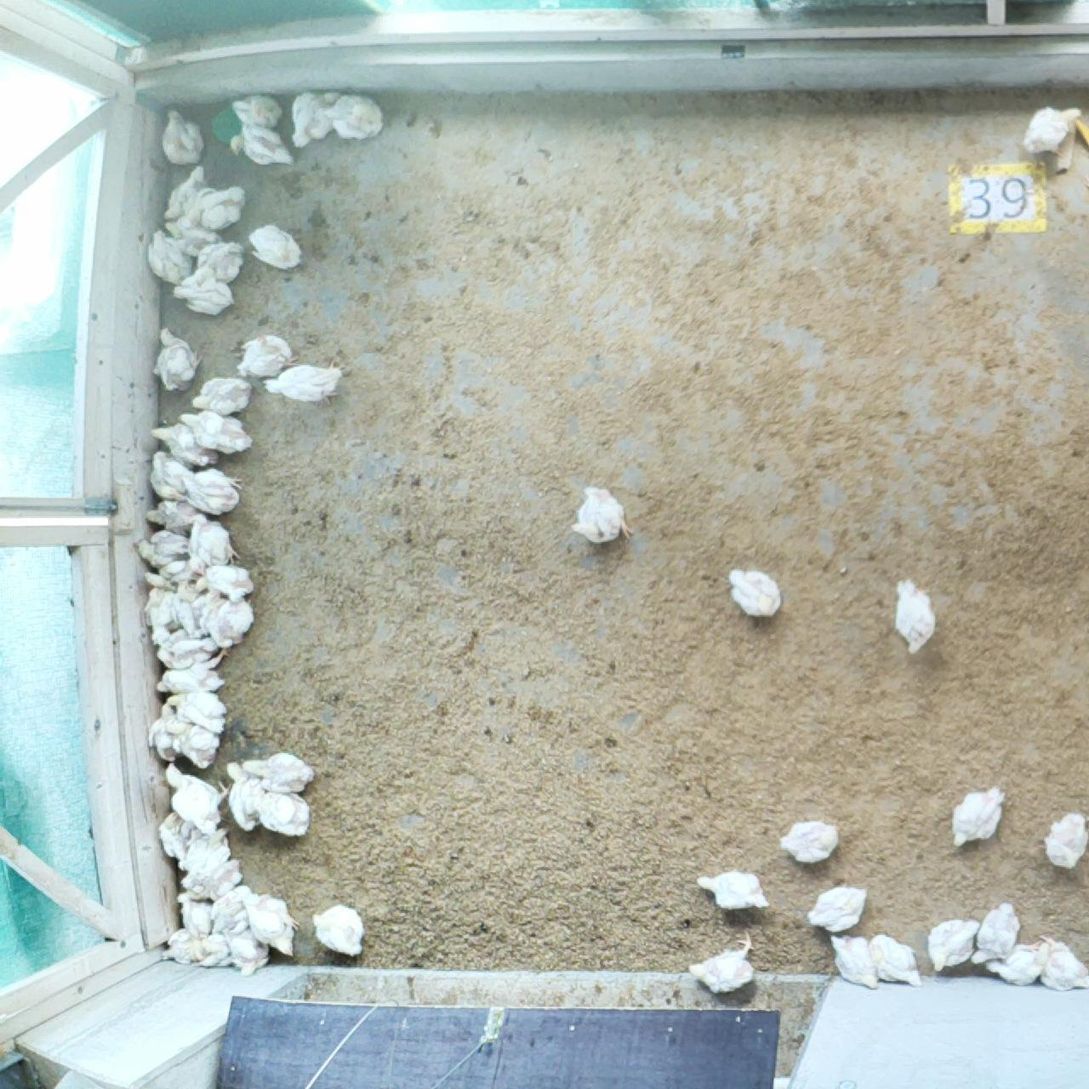chicken: (159, 760, 231, 836), (163, 455, 246, 520), (685, 928, 763, 997), (566, 478, 638, 549), (237, 888, 303, 961), (891, 570, 939, 661), (693, 865, 776, 917), (177, 405, 255, 460), (260, 358, 349, 406), (1015, 99, 1086, 159), (951, 782, 1010, 853), (149, 323, 205, 395), (968, 899, 1024, 971), (253, 779, 315, 844), (861, 927, 925, 989), (800, 881, 871, 936), (152, 645, 233, 693), (171, 262, 238, 320), (147, 421, 226, 470), (239, 746, 317, 795), (236, 329, 304, 385), (721, 562, 785, 621), (984, 935, 1053, 989), (184, 513, 240, 579), (826, 929, 882, 995), (1034, 929, 1089, 995), (179, 182, 250, 233), (219, 756, 265, 832), (289, 85, 344, 148), (324, 89, 388, 143), (156, 104, 208, 170), (308, 900, 366, 959), (925, 915, 982, 975), (228, 121, 299, 169), (174, 856, 244, 904), (245, 220, 306, 275), (774, 815, 841, 865), (145, 627, 223, 668), (210, 585, 258, 651), (165, 690, 229, 739), (145, 227, 197, 287), (1041, 806, 1089, 870), (158, 162, 208, 223), (178, 827, 236, 879), (146, 449, 195, 505), (190, 373, 253, 416), (171, 578, 214, 641), (138, 496, 206, 535), (209, 885, 256, 941), (153, 805, 195, 867), (163, 216, 225, 257), (130, 527, 192, 568), (229, 89, 287, 132), (140, 549, 193, 596), (196, 563, 257, 603), (144, 698, 182, 761), (229, 929, 274, 981), (174, 722, 222, 769), (137, 586, 180, 636), (158, 924, 205, 969), (194, 588, 231, 643), (194, 930, 233, 971), (177, 896, 211, 939)
